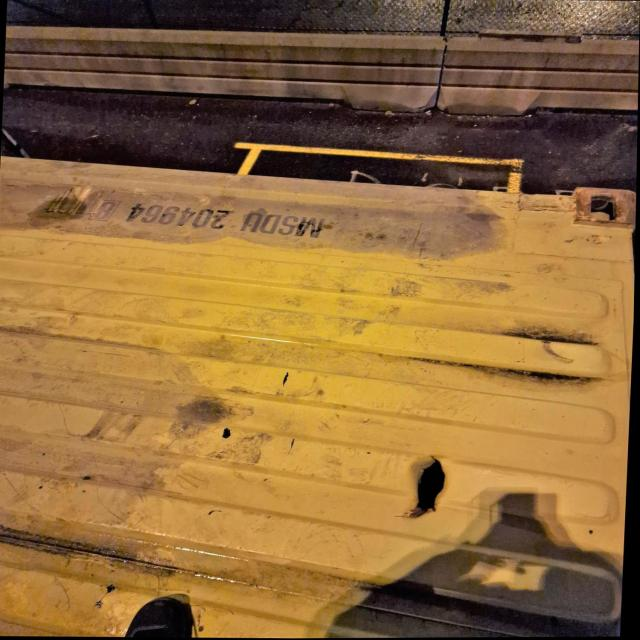hole: (398, 448, 467, 521), (123, 587, 206, 639)
